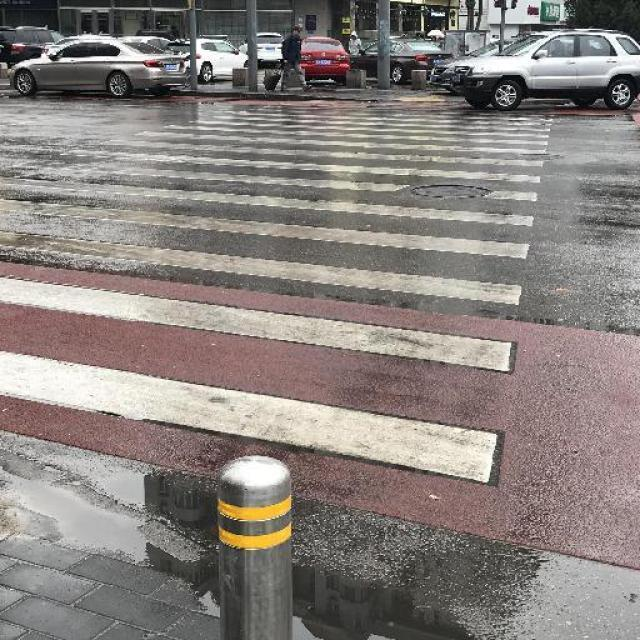crosswalk: (0, 98, 555, 485)
